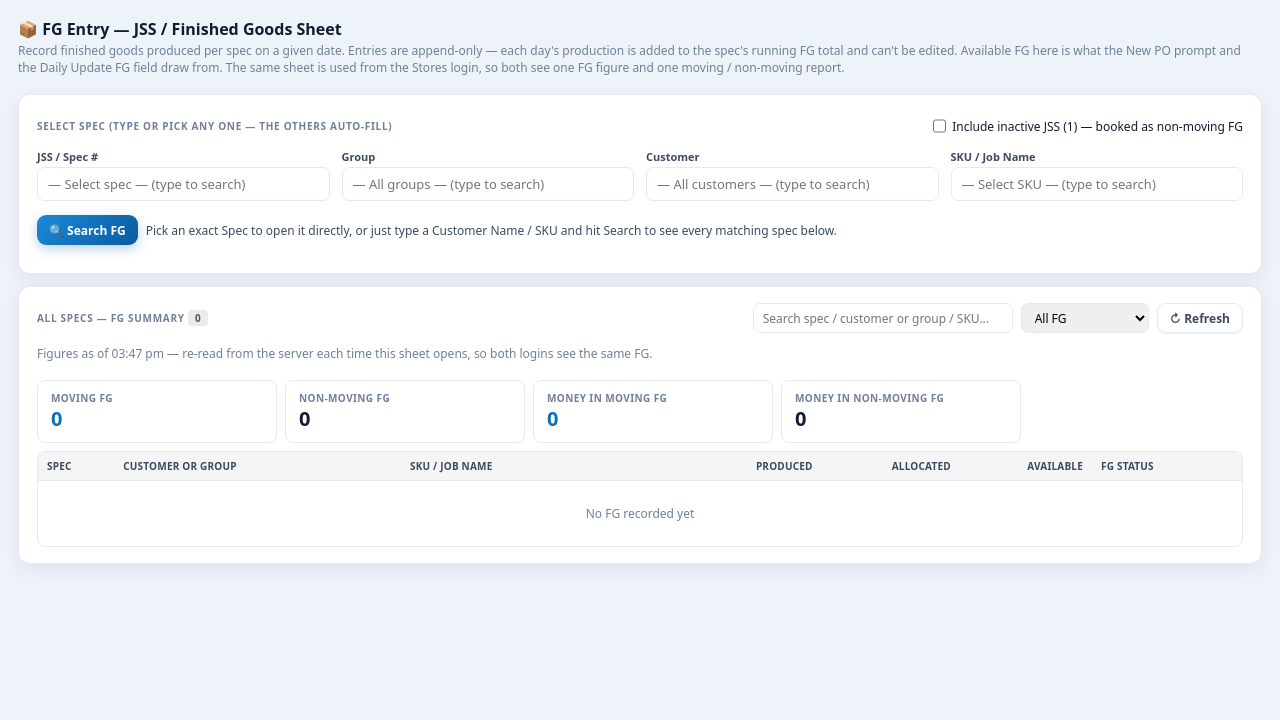
Test: FG Entry — an inactive JSS › keeps an active JSS bookable as moving, exactly as before
Expected: the text "📦 FG Entry — JSS / Finished Goods Sheet" is shown, [18,18,342,40]
Click the checkbox labelled "Include inactive JSS" at (940, 126), box [933,111,946,141]
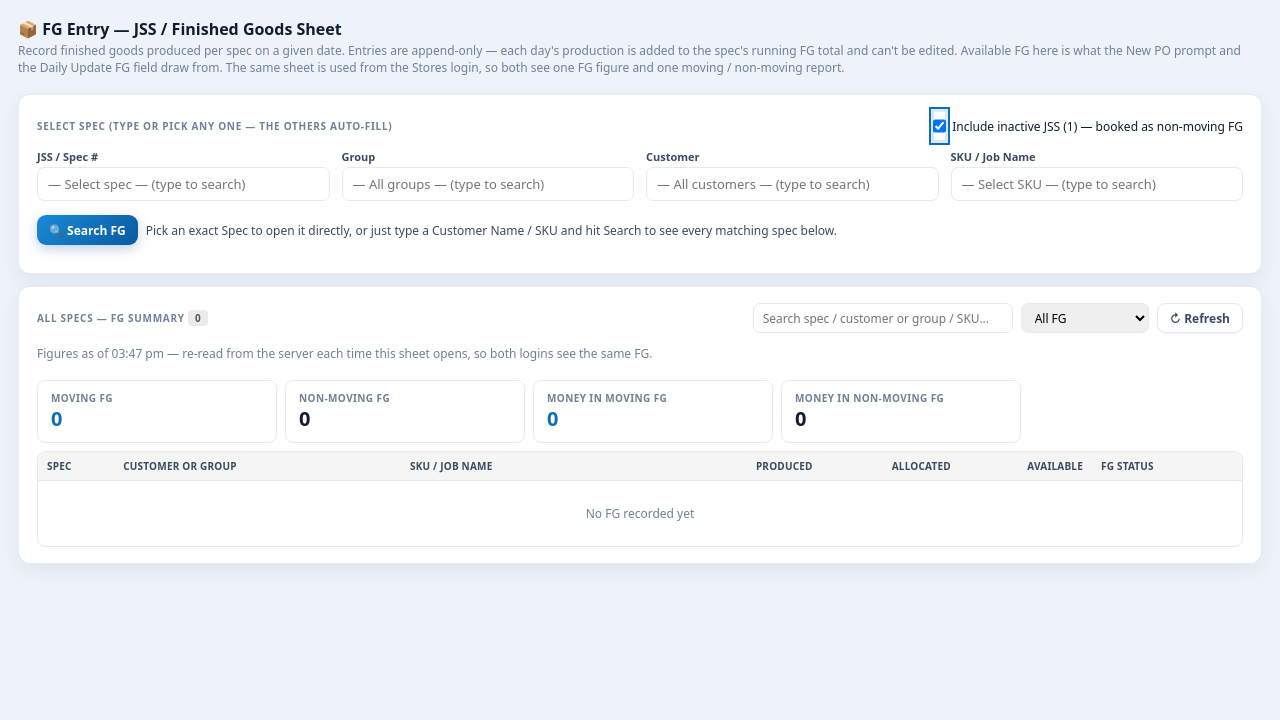
Type "A1" into the field named "JSS / Spec #" at (183, 184), box [37,167,330,201]
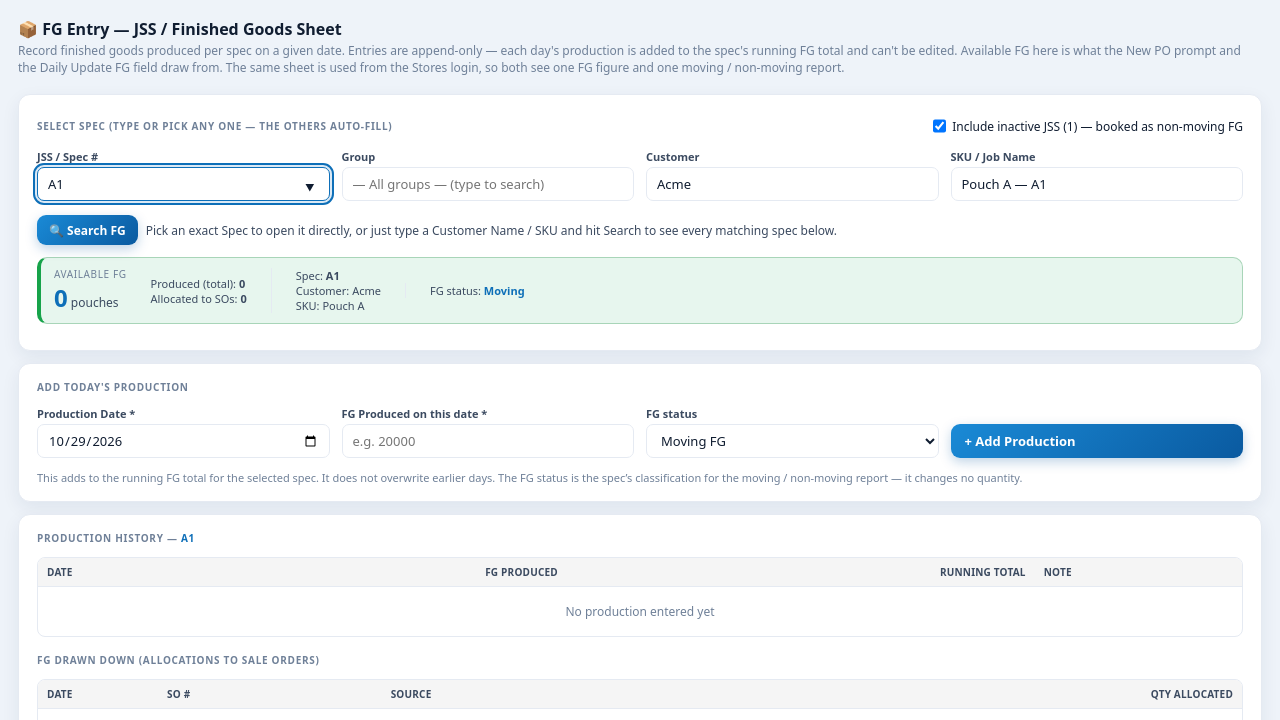
Expected: the dropdown named "FG status" shows "Moving FG", [646,424,938,458]
Expected: the dropdown named "FG status" is enabled, [646,424,938,458]
